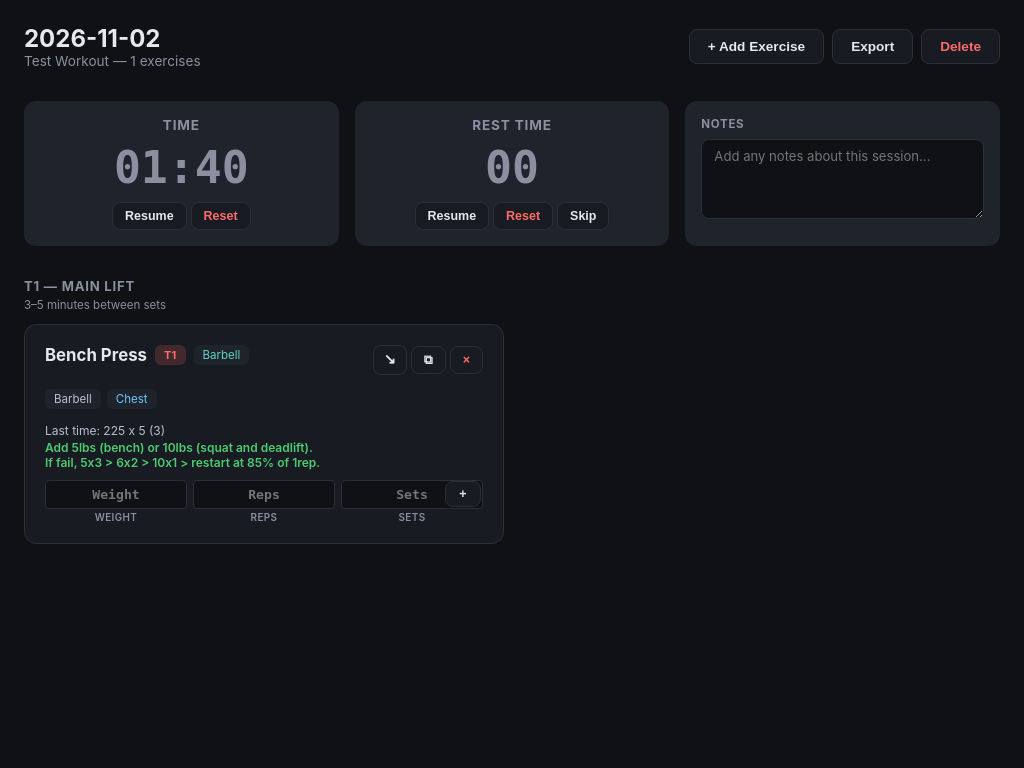
Test: record identity on the session detail card › hides a library exercise from the add modal once only its copy remains
Click the button "+ Add Exercise". click: (756, 46)
box: [689,29,824,64]
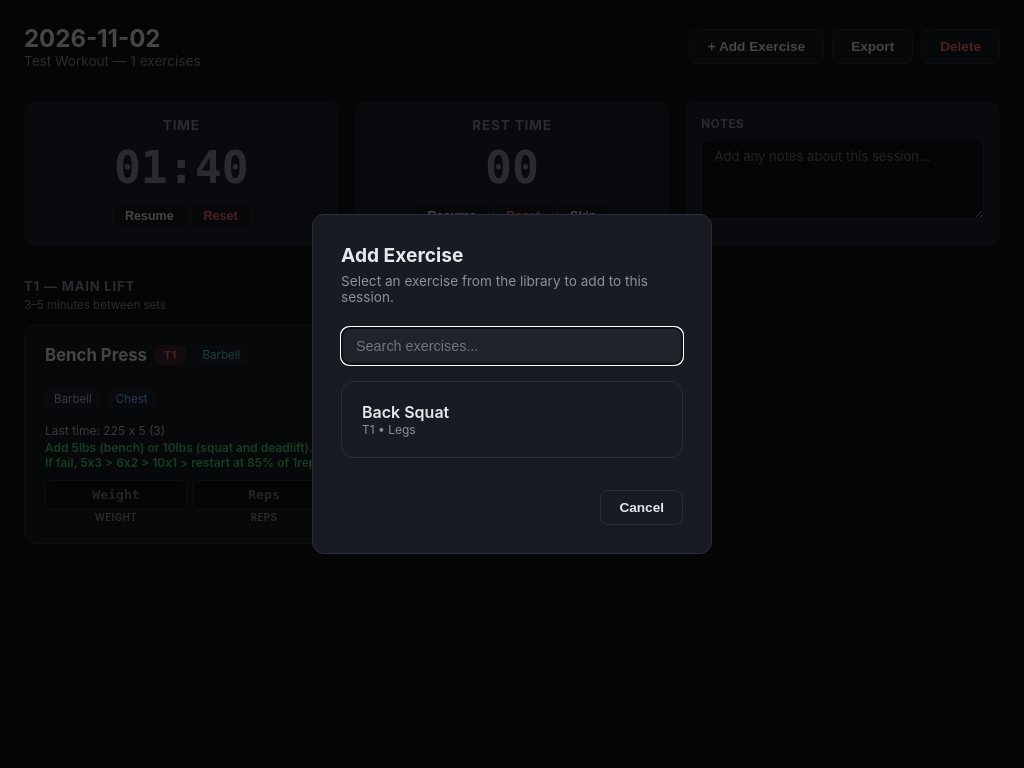
Check: the text "Back Squat" is shown, box [362,402,449,422]
Click the button "Cancel". click: (642, 508)
box: [600,490,683,525]
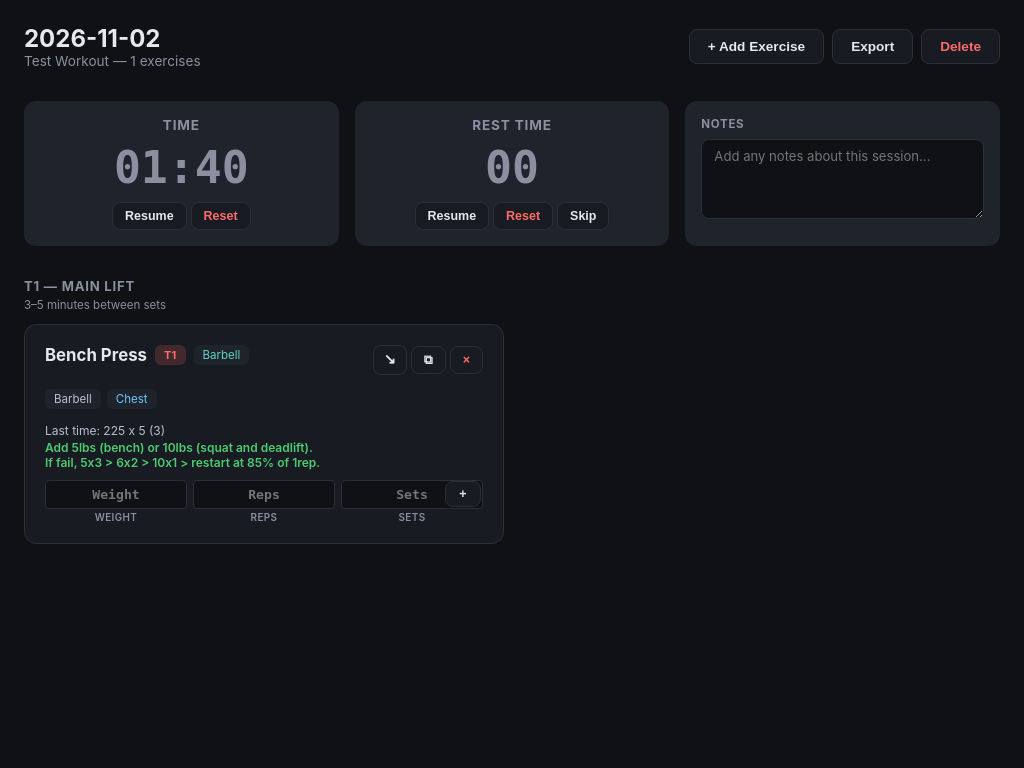
Click the button titled "Duplicate exercise". click: (428, 360)
box: [411,346,446,374]
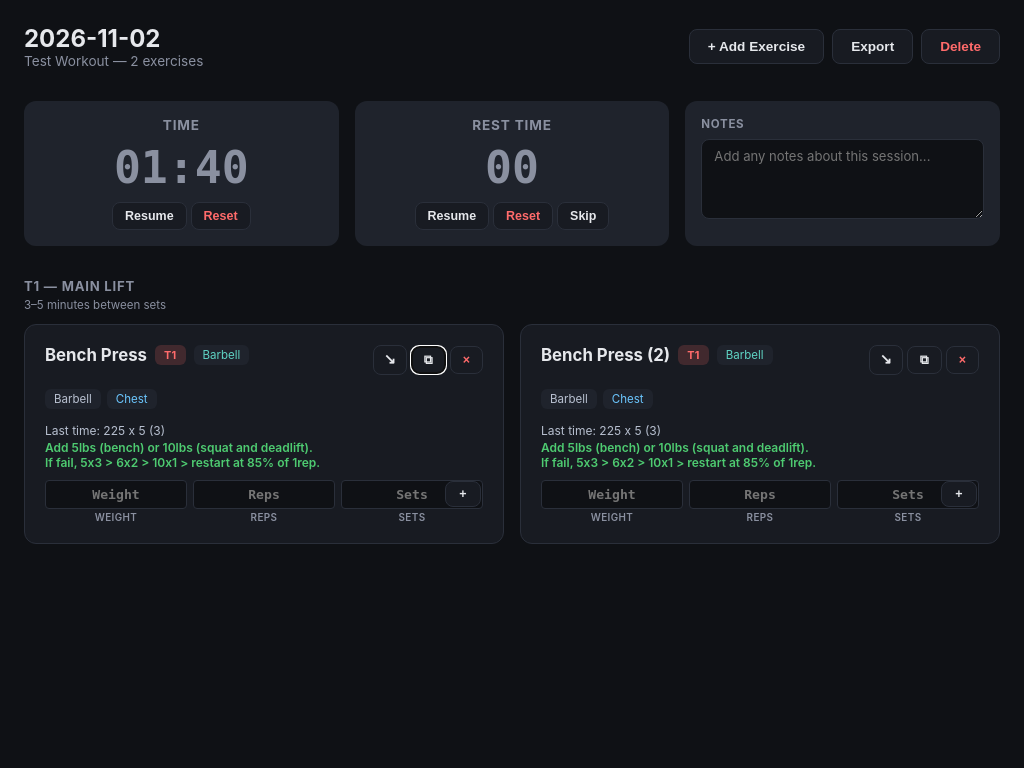
Check: the link "Bench Press (2)" is shown, box [541,345,670,365]
Remove the original. Two T1 records means removal is permitted.
Click the 1st button titled "Remove exercise". click: (466, 360)
box: [450,346,483,374]
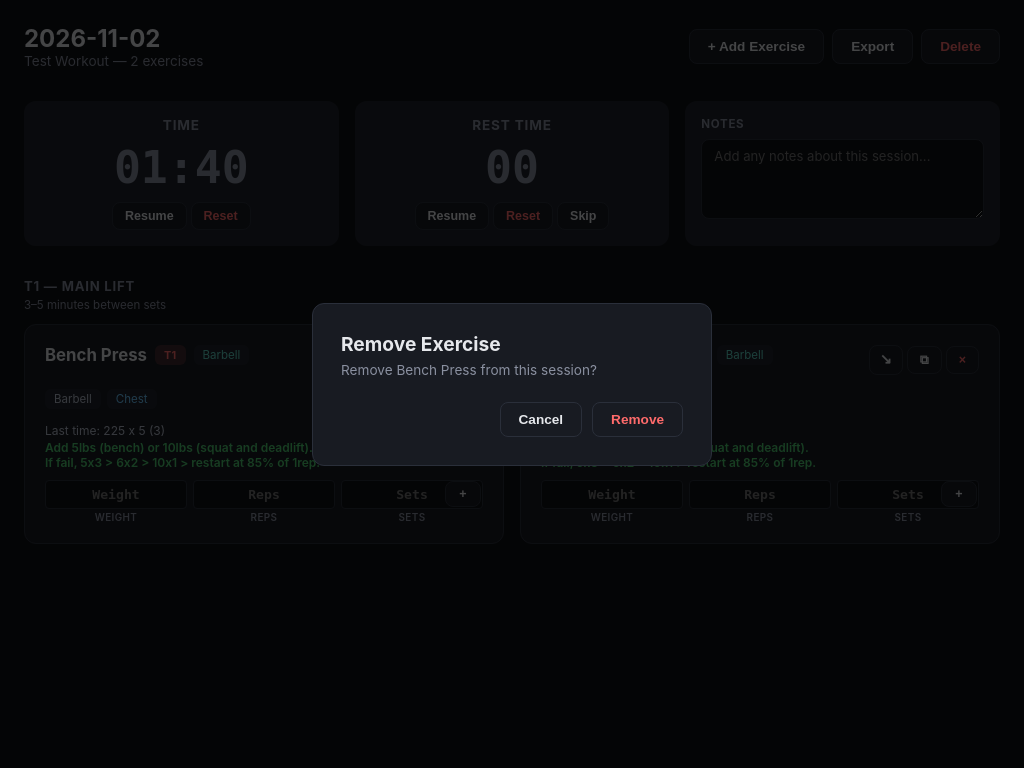
Click the button "Remove". click: (638, 419)
box: [592,402,683,436]
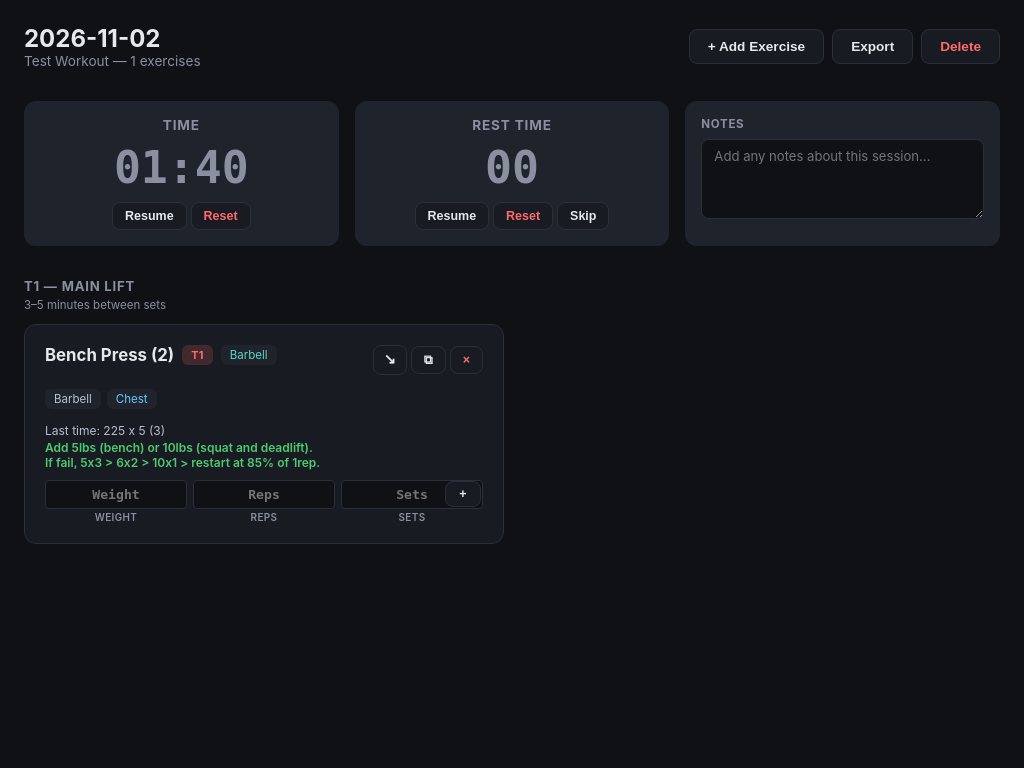
Check: the link "Bench Press (2)" is shown, box [45,345,174,365]
Click the button "+ Add Exercise". click: (756, 46)
box: [689,29,824,64]
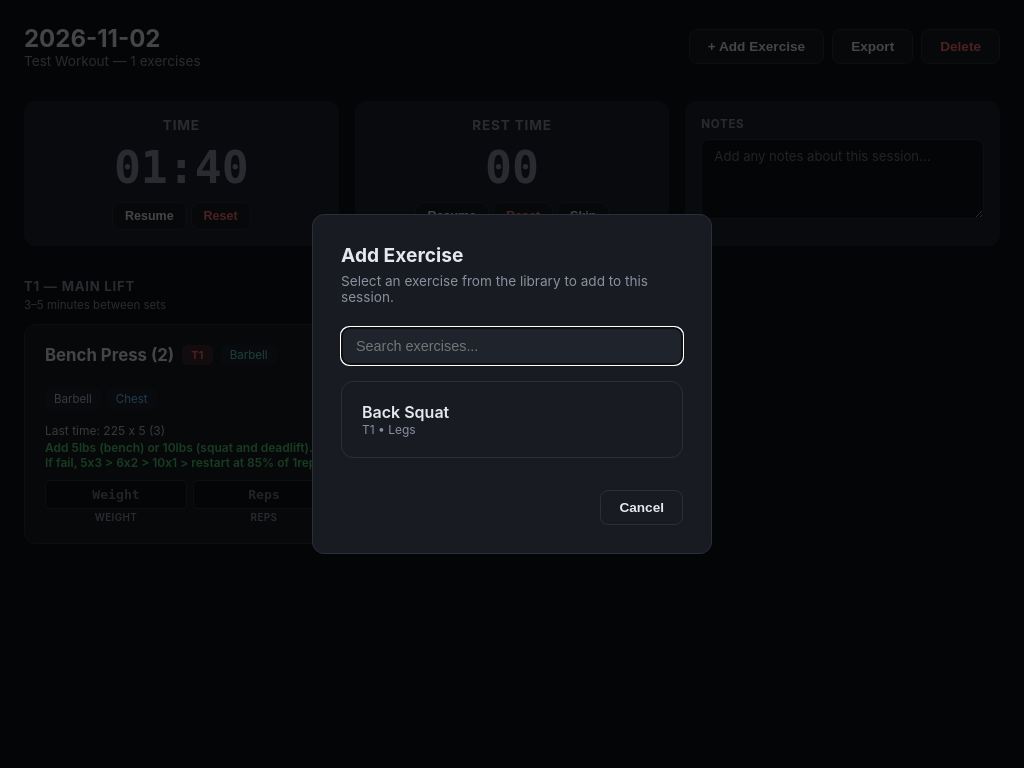
Check: the text "Back Squat" is shown, box [362,402,449,422]
